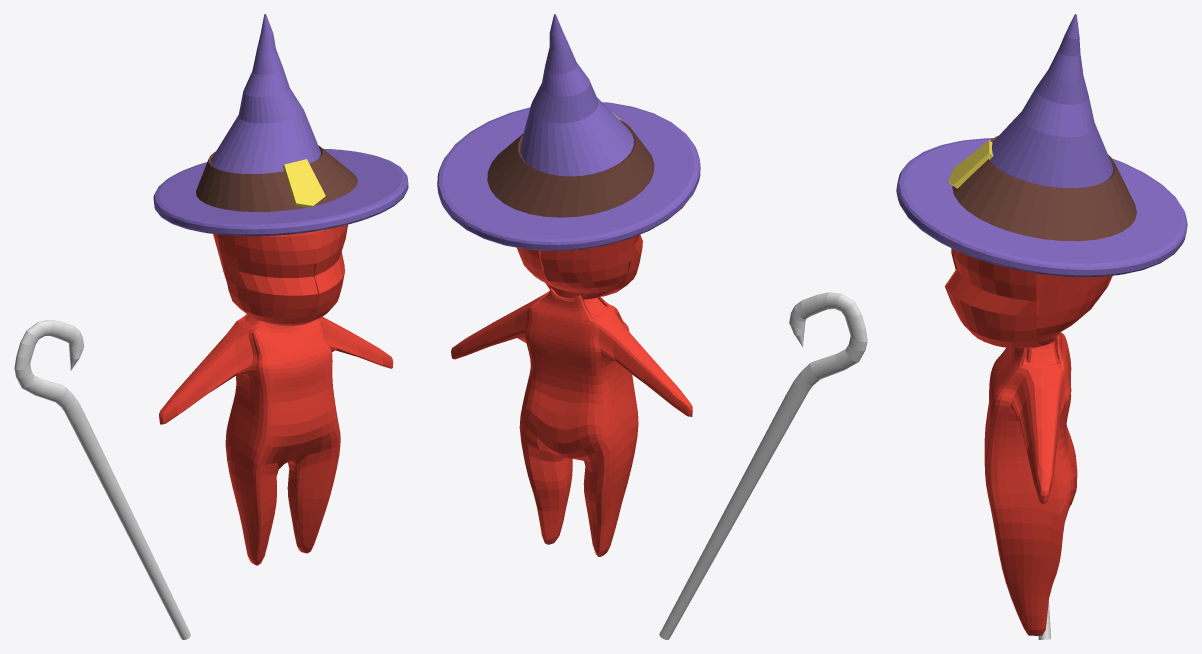
Rendered from boss-first.fbx.
3 renders of one model, left to right at view 1: azimuth 30°, elevation 25°; view 2: azimuth 150°, elevation 25°; view 3: azimuth 270°, elevation 25°, orthographic. The views are drawn at different scales.
Visible parts, largest first — view 1: Sphere.001, Circle.001; view 2: Sphere.001, Circle.001; view 3: Sphere.001.
Part boxes in pixels (<box>): Sphere.001: <box>153,14,408,565</box>; Circle.001: <box>14,320,190,639</box>; Sphere.001: <box>437,14,700,556</box>; Circle.001: <box>659,292,867,639</box>; Sphere.001: <box>896,14,1187,635</box>.
Bounding box in the file's own units: 166 × 241 × 93.49.
